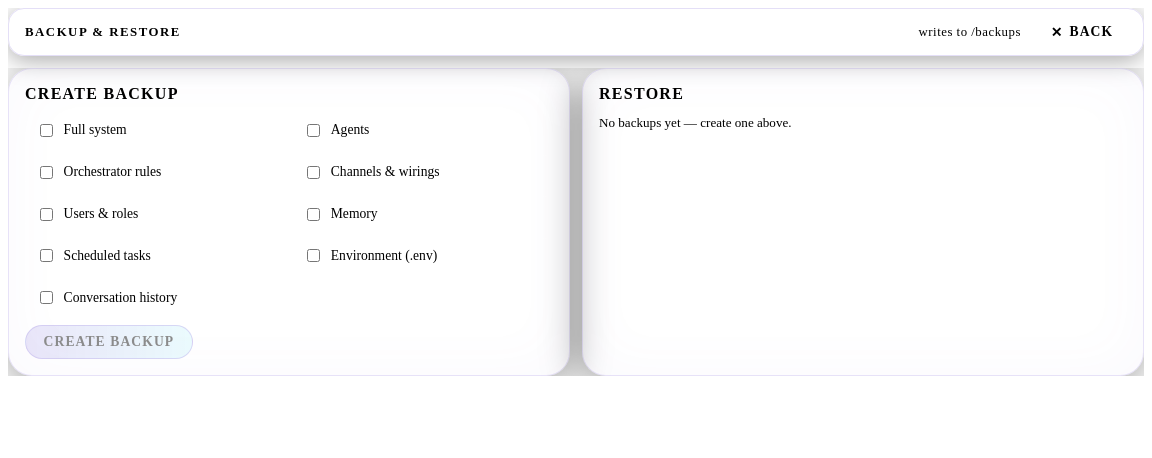
Test: BackupRestore › requires a passphrase when env is selected
The width and height of the screenshot is (1152, 458).
Expected: the text "Full system" is shown, [64,122,127,138]
Click the text "Environment (.env)": click(384, 256) [331,248,437,264]
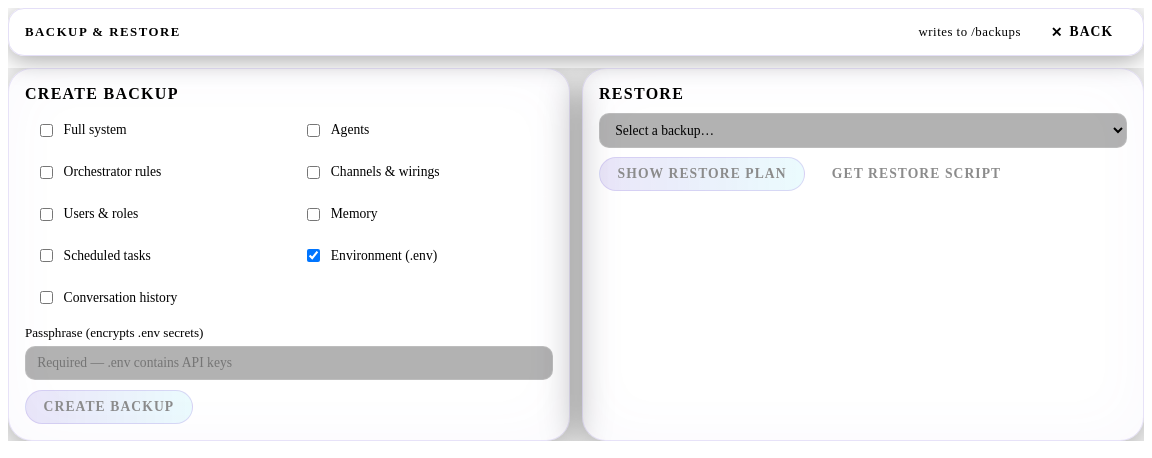
Expected: the button "Create backup" is disabled, [25,390,193,424]
In the password field labelled "Passphrase (encrypts .env secrets)": (289, 363) [25,346,553,380], type "pw"
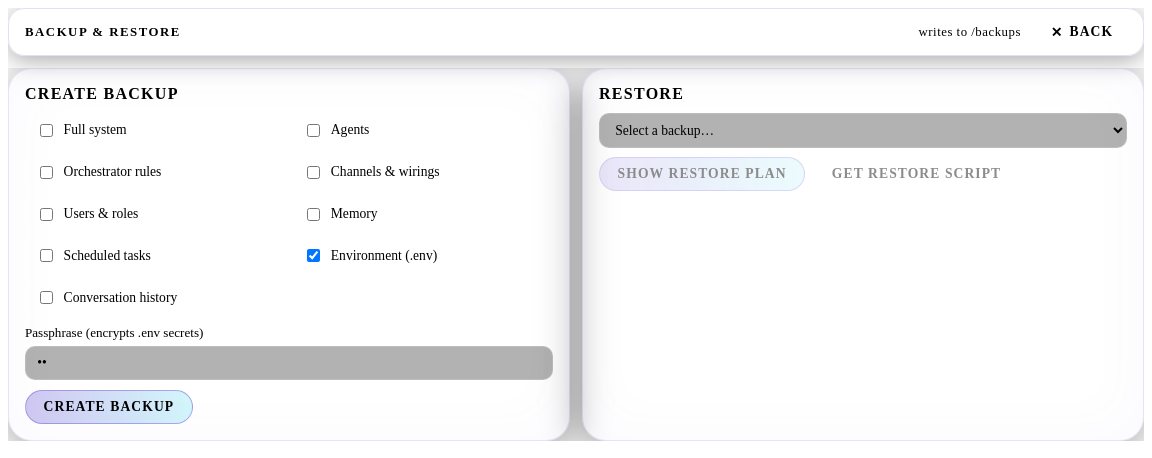
Result: the button "Create backup" is enabled at [25,390,193,424]
